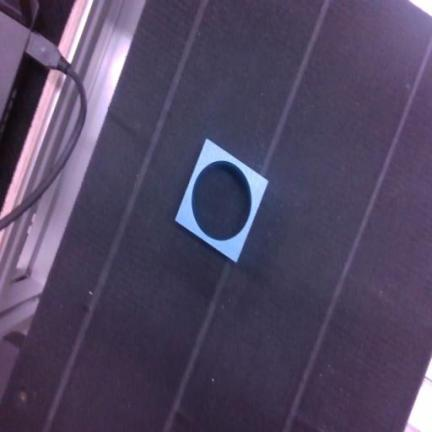hole: (176, 140, 268, 261)
